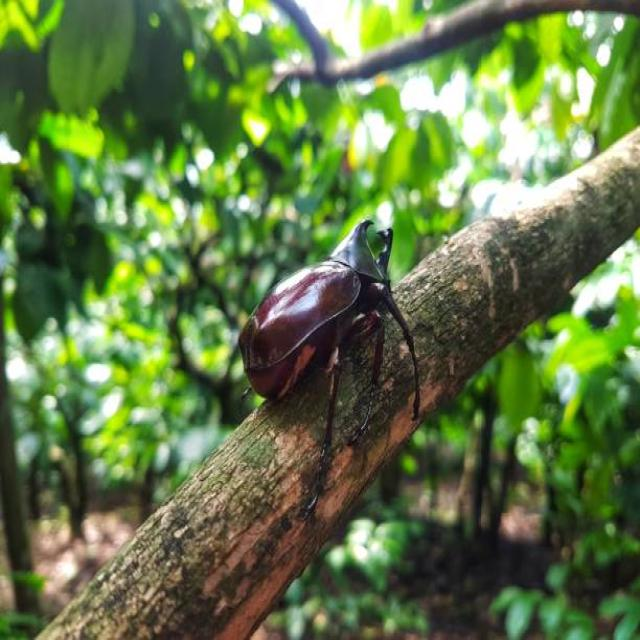Rhino-beetle: (212, 208, 429, 444)
